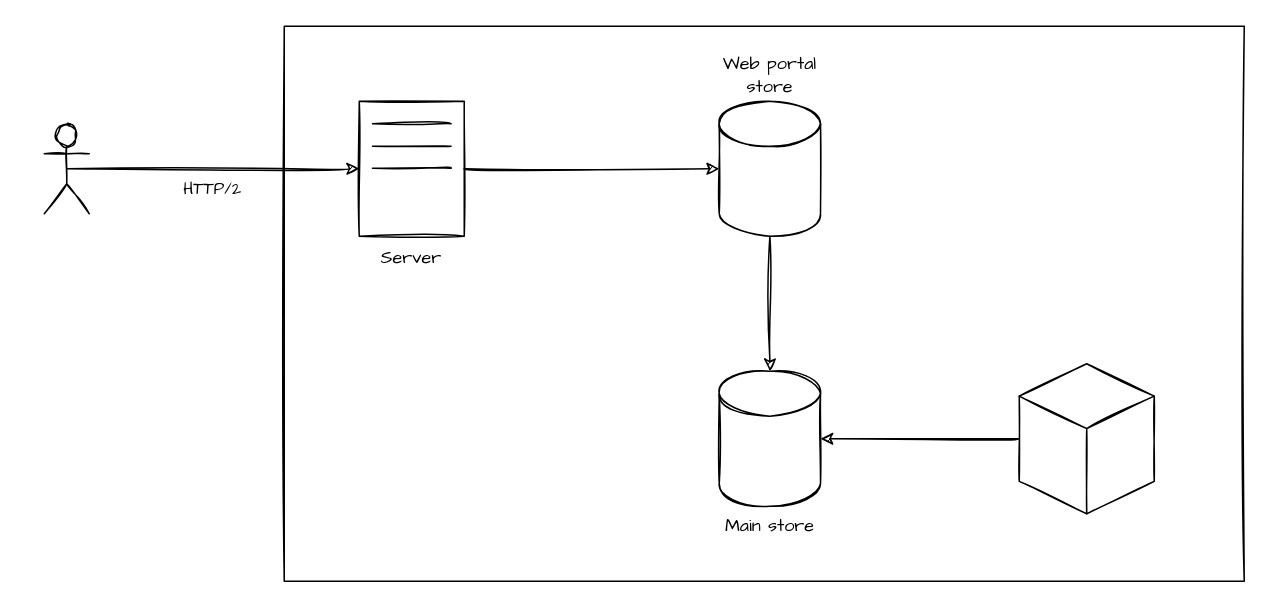
The diagram is 1271 pixels wide and 608 high, and some of its shapes have lost their labels. The shapes that lost their labels are listed below. From the top down, each one's box as (x1, y1, x2, y2) in pixels, then its label:
(43, 122, 89, 214): Customer
(1018, 362, 1154, 514): Ecosystem workloads
